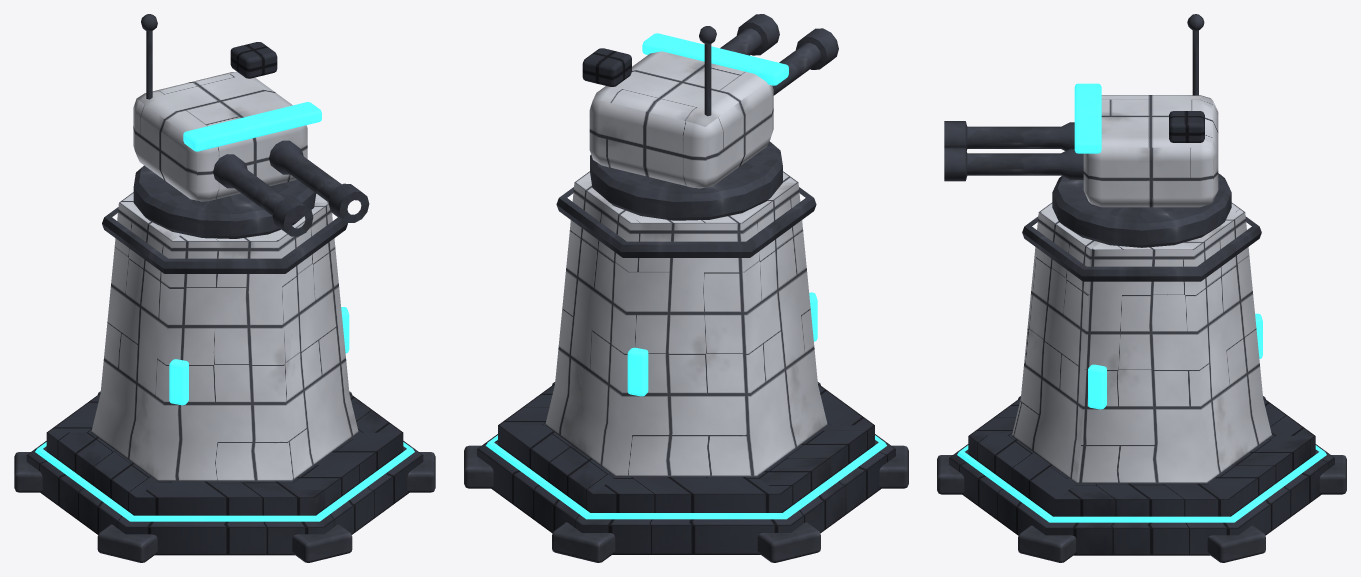
File: sf_ranger.glb
3 views of the same model, side by side, from view 1: azimuth 30°, elevation 25°; view 2: azimuth 150°, elevation 25°; view 3: azimuth 270°, elevation 25° (orthographic). The views are drawn at different scales.
Visible parts, largest first — view 1: Base, Turret; view 2: Base, Turret; view 3: Base, Turret.
Part boxes in pixels (x1,y1,x2,y2): Base: (14,192,435,562); Turret: (133,14,369,238); Base: (464,171,908,562); Turret: (582,14,838,220); Base: (937,202,1346,562); Turret: (944,14,1231,247).
Size of the model in its own units: 0.8425 by 1.1 by 0.9128.
4 materials, 4 textured.
